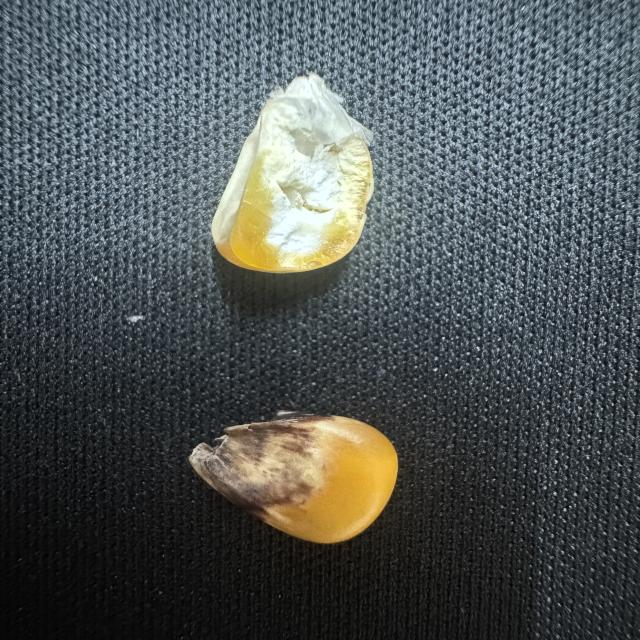Bad-Seed: (206, 69, 378, 277), (182, 406, 406, 549)
